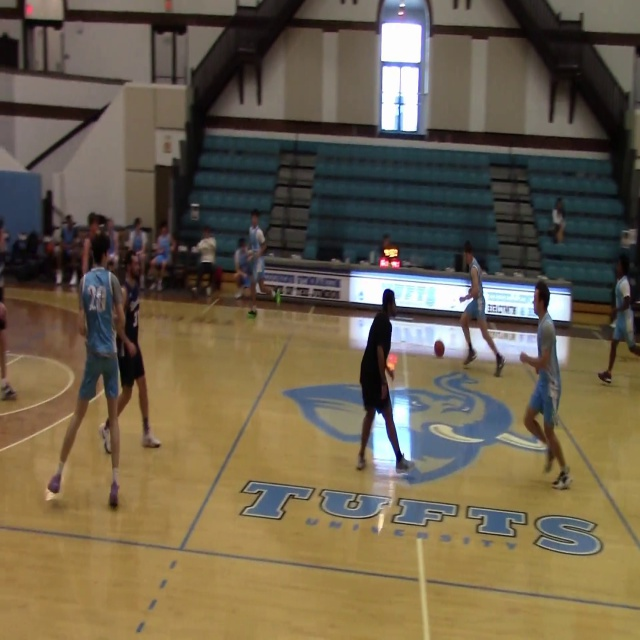Basketball: (434, 340, 445, 357)
